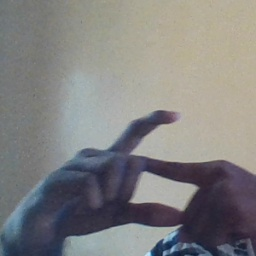E: (96, 108, 198, 232)
